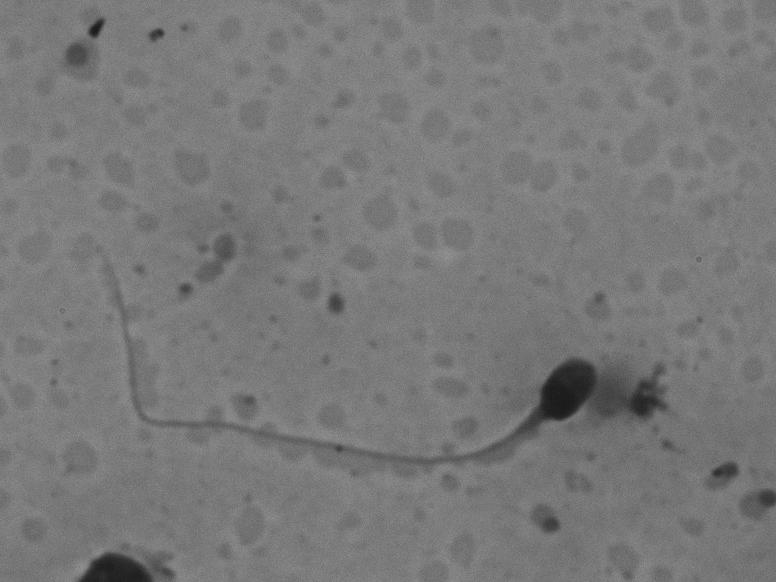Abnormal: (53, 232, 604, 489)
